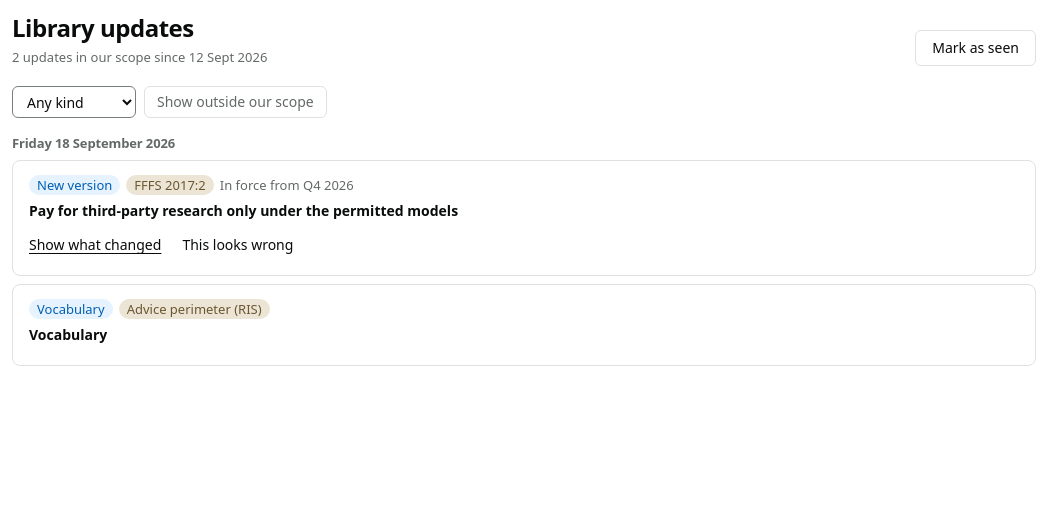
it: LibraryUpdatesScreen › shows a duty outside the footprint only when asked, dashed and saying which terms put it there
Expected: the link "Pay for third-party research only under the permitted models" is shown, [29,201,458,220]
Click the button "Show outside our scope": (235, 102) [144,86,327,118]
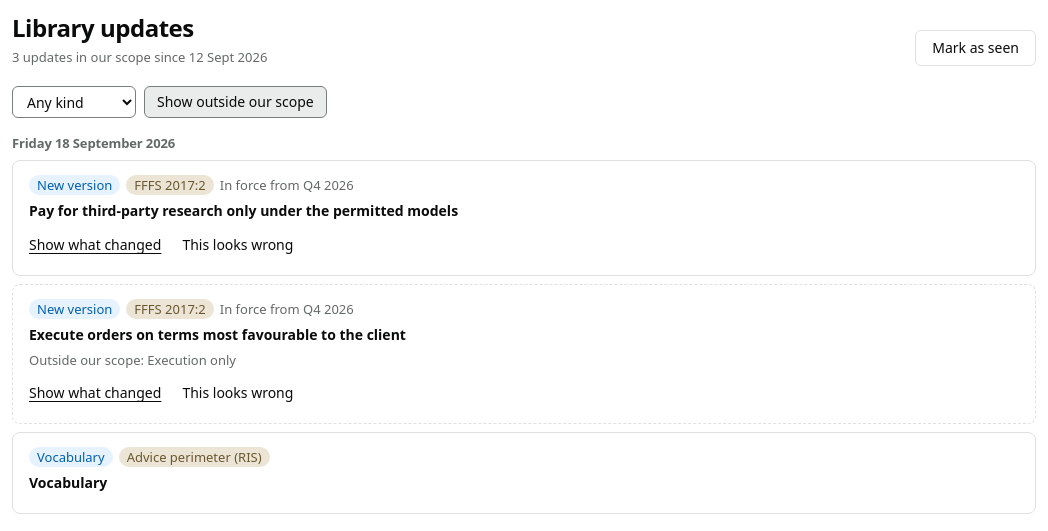
Result: the text "Outside our scope: Execution only" is shown at [29,351,236,369]
